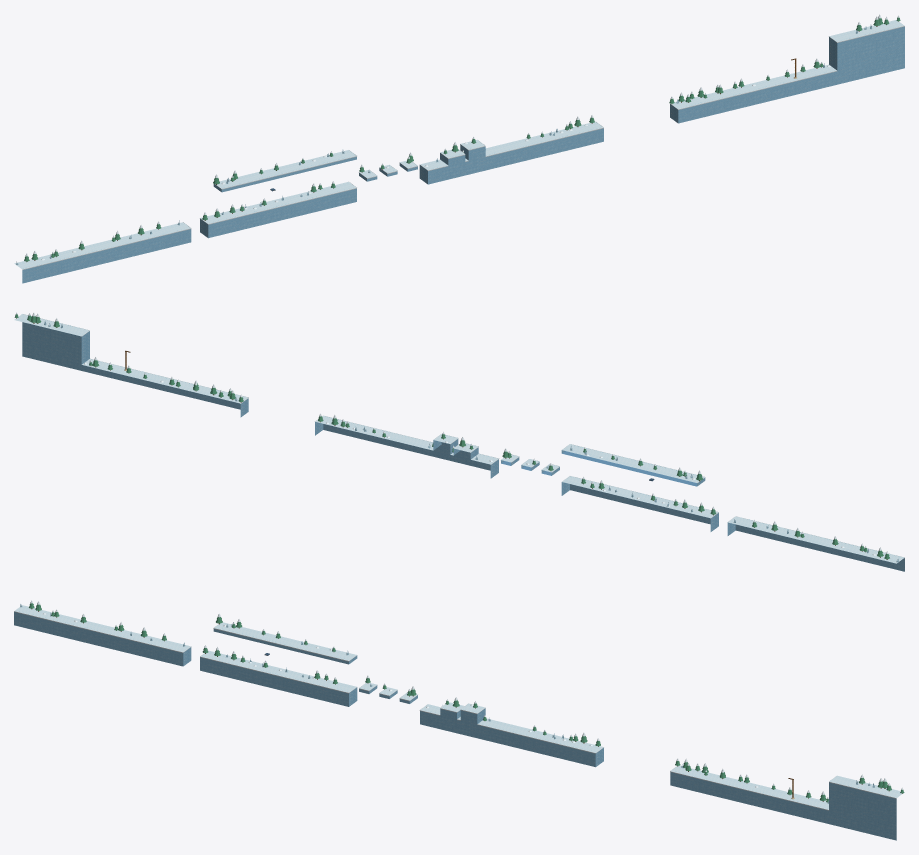
The model's file is level-4.glb.
3 renders of one model, top to bottom at view 1: azimuth 30°, elevation 25°; view 2: azimuth 150°, elevation 25°; view 3: azimuth 330°, elevation 25°, orthographic.
Visible parts, largest first — view 1: Sector_17_0, Sector_6_0, Sector_18_0, Sector_5_0, Sector_4_0, Sector_9_0, Sector_14_0, Sector_16_0, Sector_11_0, Sector_0_0, Sector_15_0, Sector_2_0 (+4 smaller); view 2: Sector_17_0, Sector_18_0, Sector_5_0, Sector_6_0, Sector_4_0, Sector_9_0, Sector_16_0, Sector_0_0, Sector_14_0, Sector_2_0, Sector_11_0, Sector_1_0 (+3 smaller); view 3: Sector_17_0, Sector_6_0, Sector_18_0, Sector_5_0, Sector_4_0, Sector_9_0, Sector_14_0, Sector_16_0, Sector_11_0, Sector_0_0, Sector_2_0, Sector_15_0 (+5 smaller).
Boxes of the visible parts, x1,y1,x2,y2 form: Sector_17_0: [819, 22, 874, 83]; Sector_6_0: [298, 149, 353, 210]; Sector_18_0: [866, 14, 904, 71]; Sector_5_0: [251, 161, 306, 222]; Sector_4_0: [207, 170, 258, 233]; Sector_9_0: [440, 136, 495, 175]; Sector_14_0: [677, 84, 732, 118]; Sector_16_0: [772, 58, 826, 94]; Sector_11_0: [535, 116, 590, 152]; Sector_0_0: [14, 249, 69, 279]; Sector_15_0: [724, 74, 779, 106]; Sector_2_0: [109, 225, 164, 256]; Sector_17_0: [45, 318, 99, 371]; Sector_18_0: [14, 312, 52, 360]; Sector_5_0: [613, 456, 667, 510]; Sector_6_0: [565, 444, 620, 498]; Sector_4_0: [660, 467, 711, 520]; Sector_9_0: [423, 432, 478, 464]; Sector_16_0: [92, 350, 147, 383]; Sector_0_0: [849, 543, 904, 568]; Sector_14_0: [186, 380, 240, 405]; Sector_2_0: [755, 521, 809, 544]; Sector_11_0: [329, 415, 383, 440]; Sector_1_0: [802, 534, 857, 556]; Sector_17_0: [819, 774, 872, 829]; Sector_6_0: [298, 639, 353, 702]; Sector_18_0: [866, 778, 904, 836]; Sector_5_0: [251, 629, 305, 690]; Sector_4_0: [203, 613, 258, 679]; Sector_9_0: [440, 697, 495, 737]; Sector_14_0: [677, 759, 731, 794]; Sector_16_0: [771, 778, 826, 817]; Sector_11_0: [535, 730, 589, 760]; Sector_0_0: [14, 600, 69, 632]; Sector_2_0: [109, 622, 162, 656]; Sector_15_0: [724, 774, 779, 806].
Bounding box in the file's own units: 261 × 16.07 × 4.66.
Materials: 1 (1 with a texture image).
